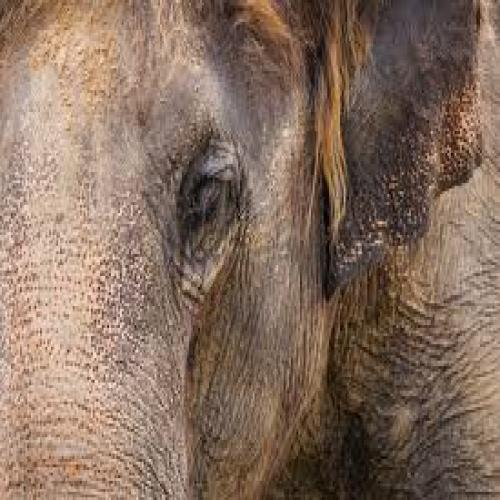asian_elephant-endangered: (9, 13, 489, 491)
